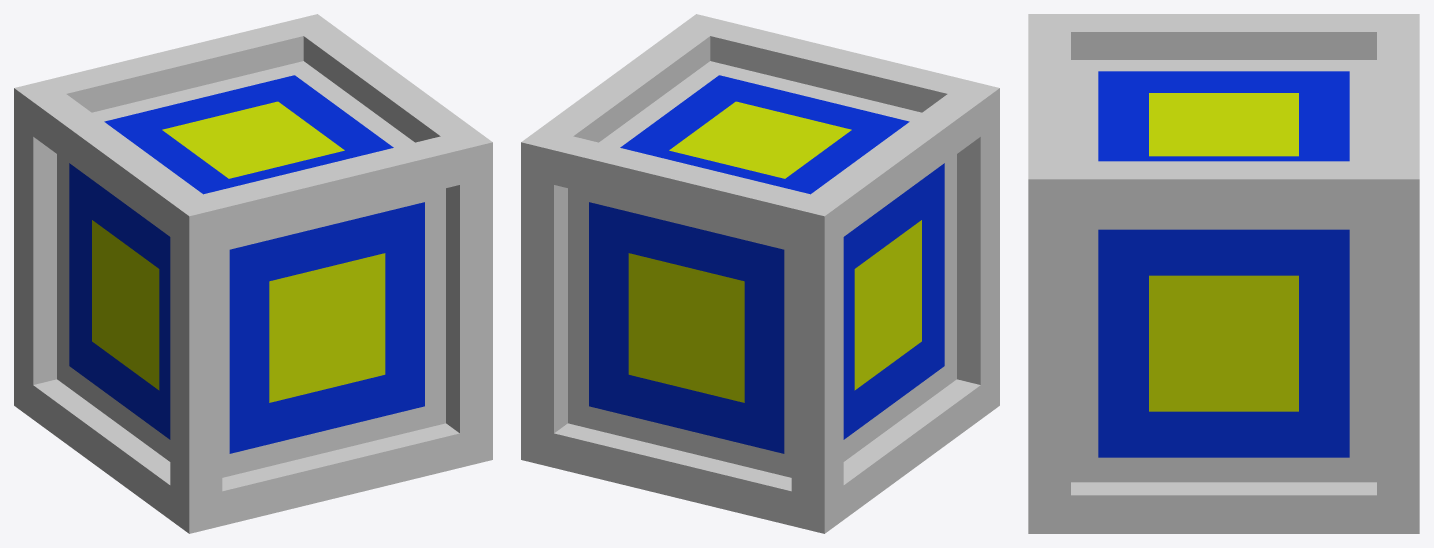
The model's file is CoolCube.glb.
3 renders of one model, left to right at view 1: azimuth 30°, elevation 25°; view 2: azimuth 150°, elevation 25°; view 3: azimuth 270°, elevation 25°, orthographic. The views are drawn at different scales.
Visible parts, largest first — view 1: Cube.001; view 2: Cube.001; view 3: Cube.001.
Part boxes in pixels (x1,y1,x2,y2): Cube.001: (14,14,492,533); Cube.001: (521,14,999,533); Cube.001: (1028,14,1419,533).
Size of the model in its own units: 2 by 2 by 2.
